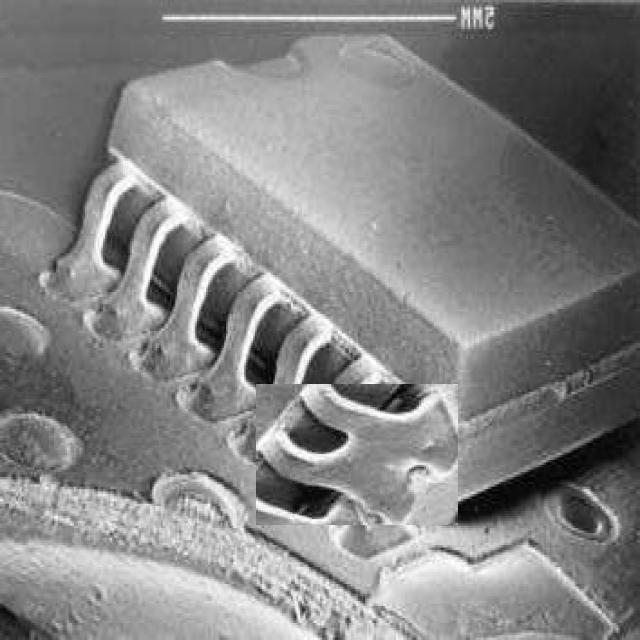Short_circuit: (271, 368, 443, 540)
